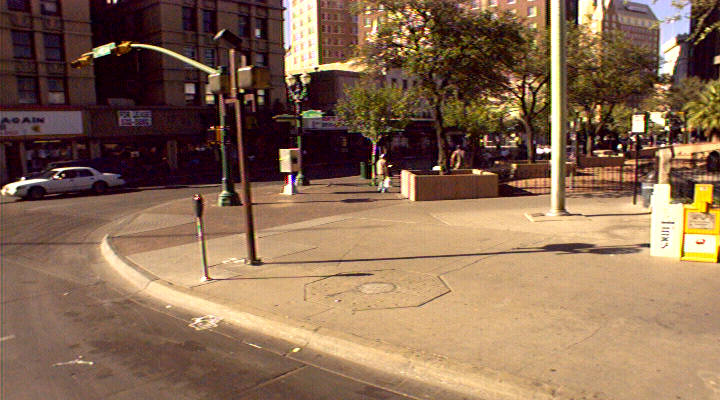Ramp: (96, 207, 203, 243)
